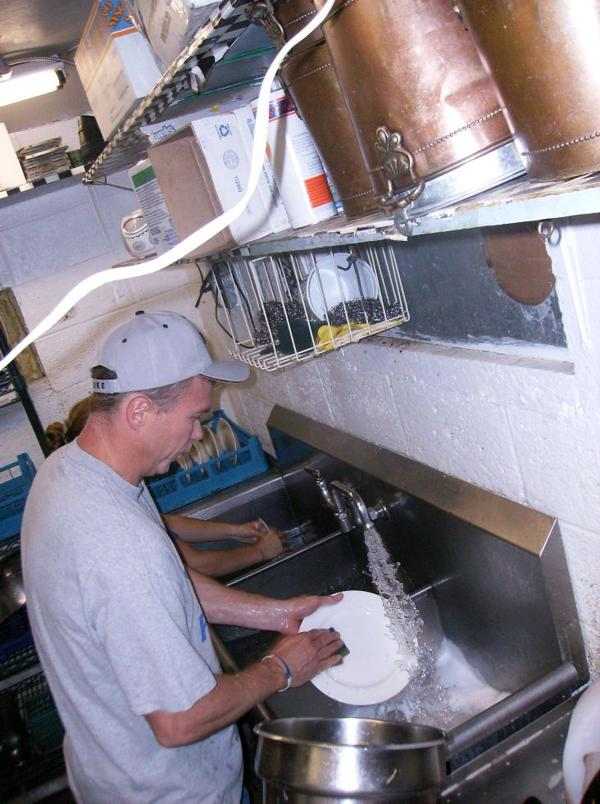person: (16, 311, 349, 804)
